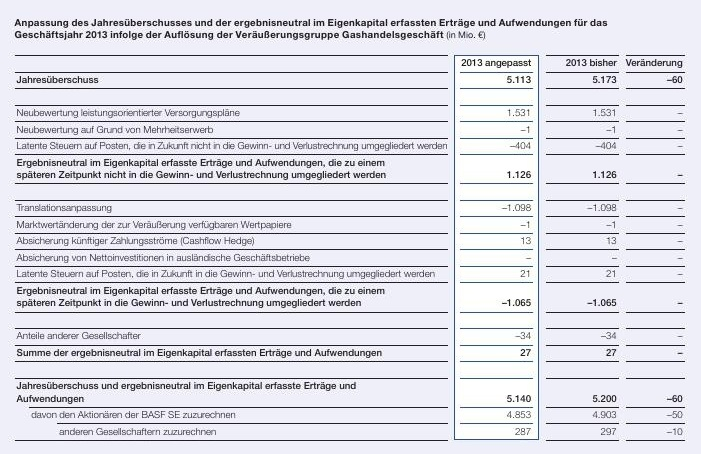table: (0, 0, 701, 454)
